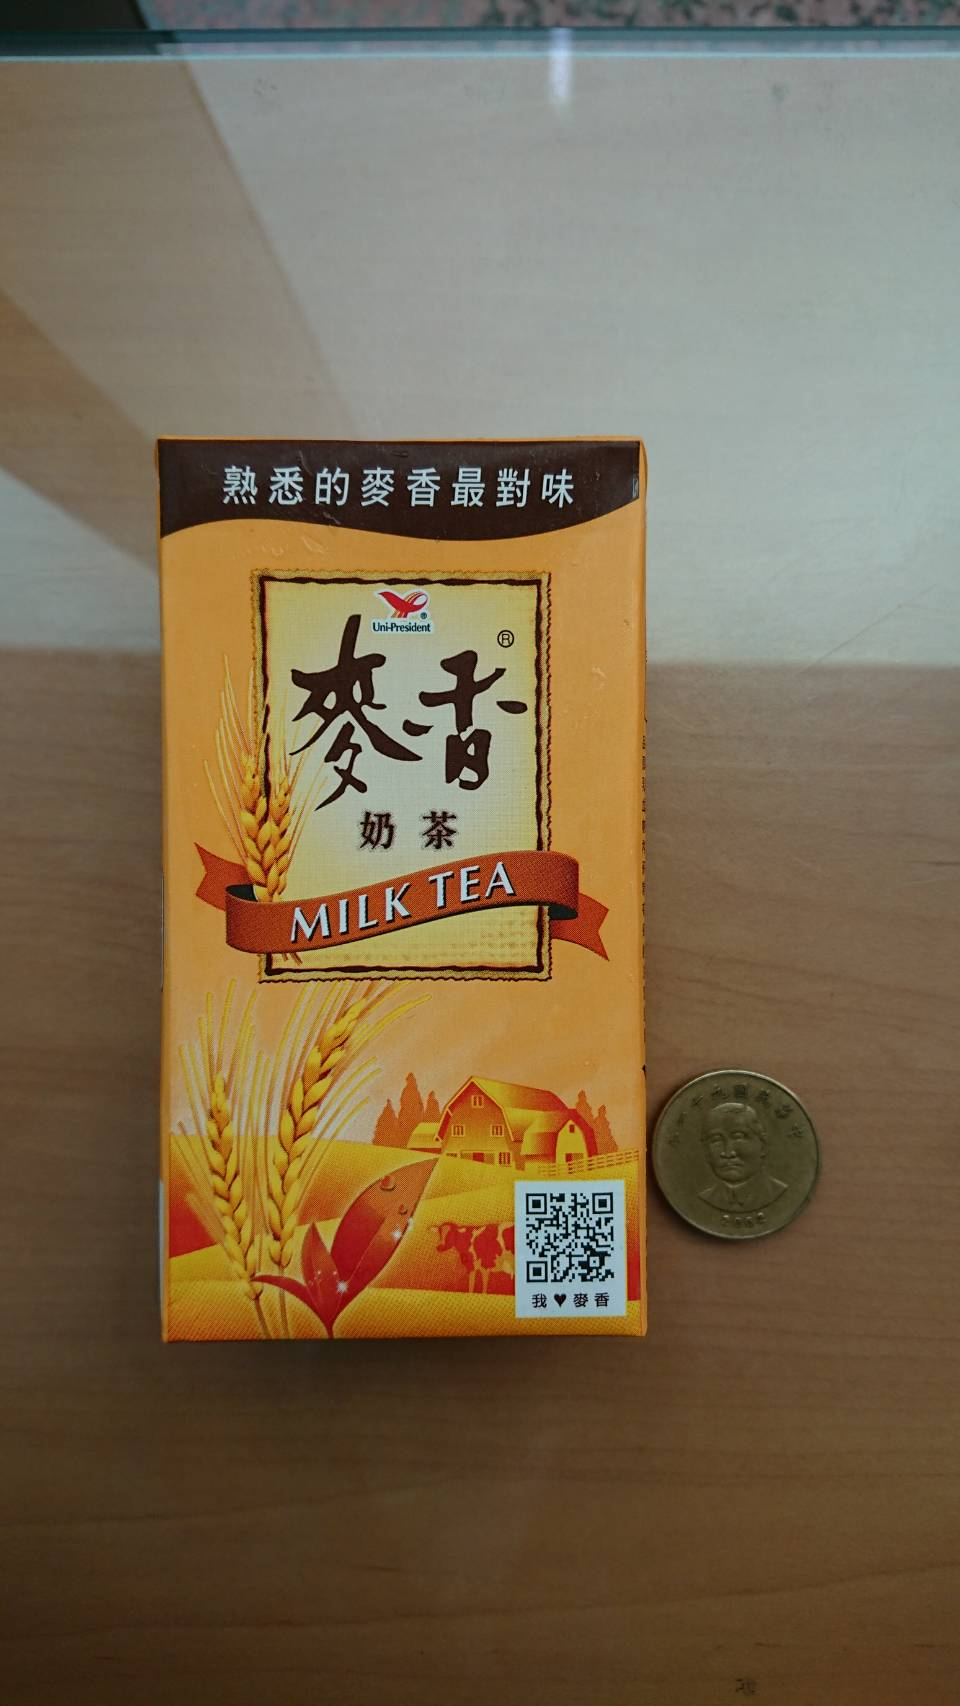milk tea: (152, 441, 647, 1336)
